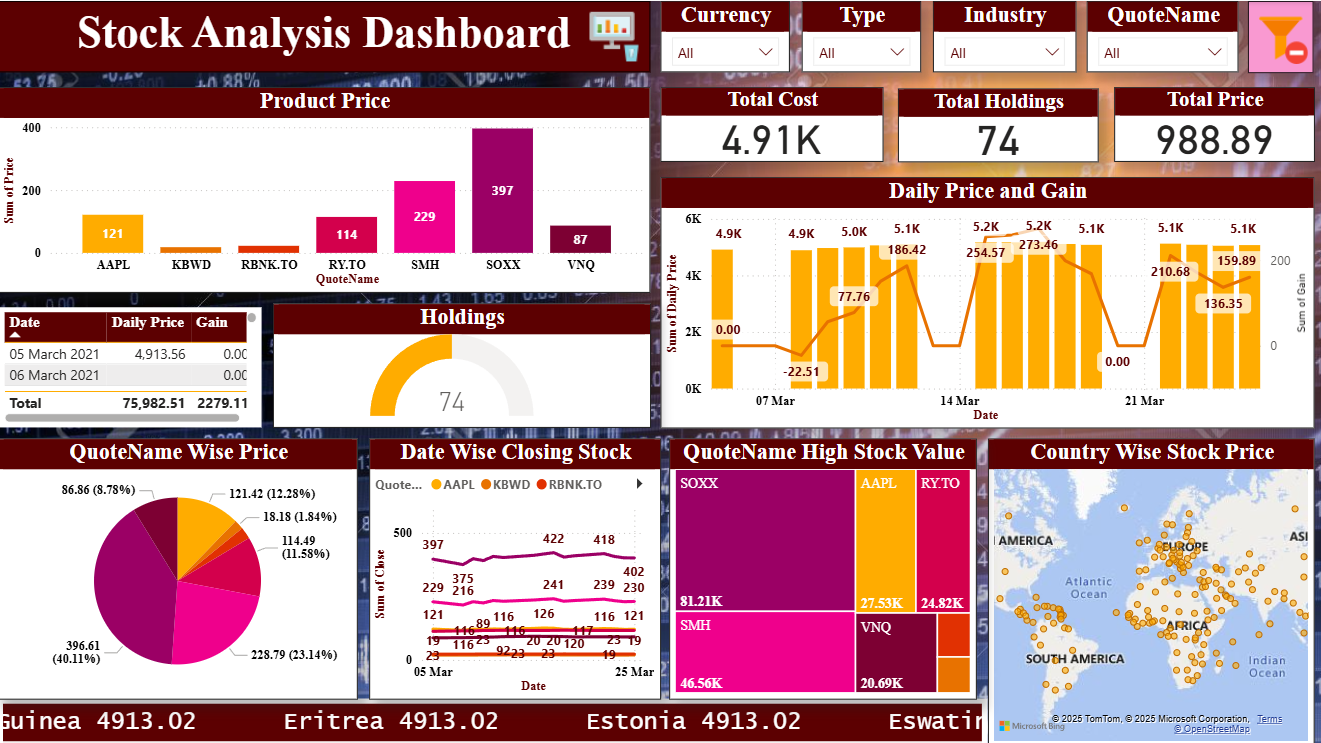

The dashboard page shown, as its layout file describes it:
{"tool":"powerbi","page":{"name":"Page 1","canvas":[1280,720],"ordinal":0},"visuals":[{"type":"textbox","box":[0,0,629.8,68.6],"z":0},{"type":"image","box":[548.9,0,90.6,68.6],"z":1000},{"type":"slicer","title":"Currency","fields":{"Values":["type.Currency"]},"box":[639.5,0,124.9,68.6],"z":2000},{"type":"slicer","title":"Type","fields":{"Values":["type.Type"]},"box":[775.3,0,115.3,68.6],"z":3000},{"type":"slicer","title":"Industry","fields":{"Values":["type.Industry"]},"box":[902.5,0,138.2,68.5],"z":4000},{"type":"slicer","title":"QuoteName","fields":{"Values":["type.QuoteName"]},"box":[1050.4,0,146.7,68.5],"z":5000},{"type":"image","box":[1206.9,0,63.6,69.7],"z":6000},{"type":"columnChart","title":"Product Price","fields":{"Category":["holding.QuoteName"],"Y":["Sum(holding.Price)"],"Series":["holding.QuoteName"]},"box":[0,83.2,629.8,198.1],"z":7000},{"type":"card","title":"Total Cost","fields":{"Values":["Sum(holding.Cost)"]},"box":[639.5,83.2,215.2,72.1],"z":8000},{"type":"card","title":"Total Holdings","fields":{"Values":["Sum(holding.Holdings)"]},"box":[868.2,84.4,193.2,70.9],"z":9000},{"type":"card","title":"Total Price","fields":{"Values":["Sum(holding.Price)"]},"box":[1077.3,83.2,193.2,72.1],"z":10000},{"type":"lineClusteredColumnComboChart","title":" Daily Price and  Gain ","fields":{"Category":["dailygain.Date"],"Y2":["Sum(dailygain.Gain)"],"Y":["Sum(dailygain.Daily Price)"]},"box":[639.5,170,631,242.1],"z":11000},{"type":"tableEx","fields":{"Values":["dailygain.Date","Sum(dailygain.Daily Price)","Sum(dailygain.Gain)"]},"box":[0,295.9,254.3,116.2],"z":12000},{"type":"gauge","title":" Holdings","fields":{"Y":["Sum(holding.Holdings)"]},"box":[265.4,292.3,364.4,119.8],"z":13000},{"type":"map","title":" Country Wise Stock Price","fields":{"Category":["CountryName.Country"]},"box":[955,421.9,315.5,298.4],"z":14000},{"type":"ScrollingTextVisual1448795304508","fields":{"Category":["CountryName.Country"],"Measure Absolute":["Sum(holding.Cost)"]},"box":[0,673.8,955,46.5],"z":15000},{"type":"pieChart","title":" QuoteName Wise Price","fields":{"Y":["Sum(holding.Price)"],"Category":["holding.QuoteName"]},"box":[0,421.9,347.3,251.9],"z":16000},{"type":"lineChart","title":"Date Wise Closing Stock","fields":{"Category":["dailygain.Date"],"Y":["Sum(stock.Close)"],"Series":["holding.QuoteName"]},"box":[358.3,421.9,281.3,251.9],"z":17000},{"type":"treemap","title":" QuoteName High Stock Value","fields":{"Group":["holding.QuoteName"],"Values":["Sum(stock.High)"]},"box":[648.1,421.9,297.1,251.9],"z":18000}]}

Visuals, with their boxes in screenshot pixels (x1, y1, x2, y2), scaled from the page's 1280x720 canvas onto the 1321x743 screenshot:
textbox: detection(0, 0, 650, 71)
image: detection(566, 0, 660, 71)
"Currency" slicer: detection(660, 0, 789, 71)
"Type" slicer: detection(800, 0, 919, 71)
"Industry" slicer: detection(931, 0, 1074, 71)
"QuoteName" slicer: detection(1084, 0, 1235, 71)
image: detection(1246, 0, 1311, 72)
"Product Price" columnChart: detection(0, 86, 650, 290)
"Total Cost" card: detection(660, 86, 882, 160)
"Total Holdings" card: detection(896, 87, 1095, 160)
"Total Price" card: detection(1112, 86, 1311, 160)
" Daily Price and  Gain " lineClusteredColumnComboChart: detection(660, 175, 1311, 425)
tableEx - dailygain.Date x Sum(dailygain.Daily Price): detection(0, 305, 262, 425)
" Holdings" gauge: detection(274, 302, 650, 425)
" Country Wise Stock Price" map: detection(986, 435, 1311, 742)
ScrollingTextVisual1448795304508 - CountryName.Country x Sum(holding.Cost): detection(0, 695, 986, 742)
" QuoteName Wise Price" pieChart: detection(0, 435, 358, 695)
"Date Wise Closing Stock" lineChart: detection(370, 435, 660, 695)
" QuoteName High Stock Value" treemap: detection(669, 435, 975, 695)
